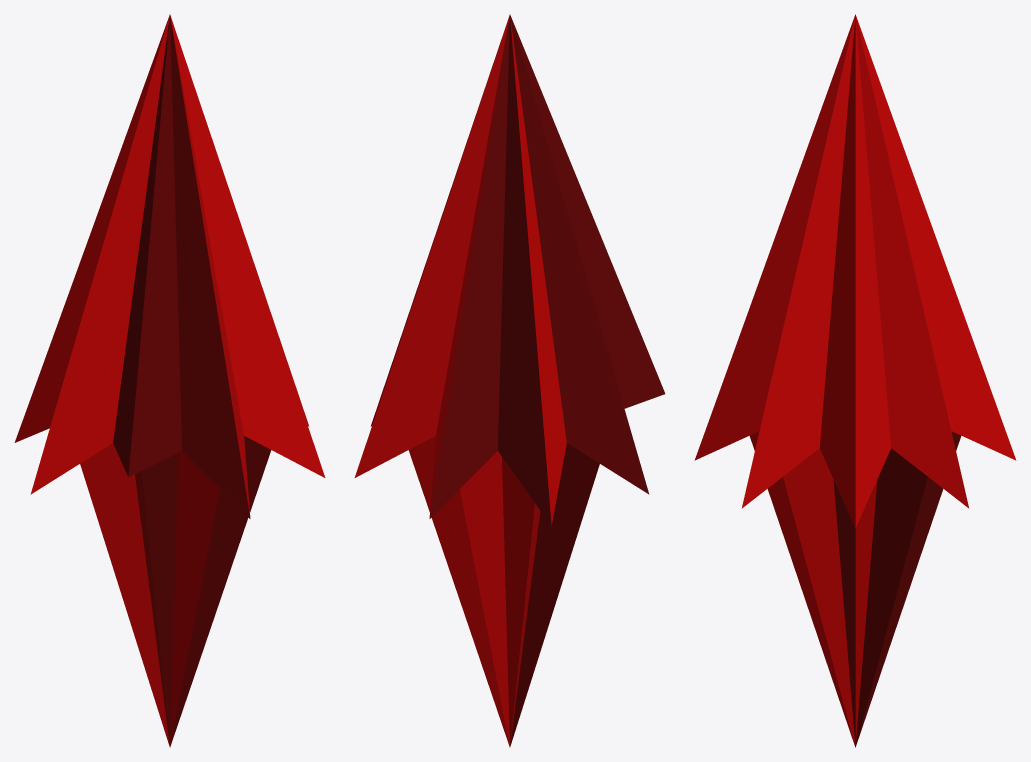
The model's file is Skytrooper_Bullet.fbx.
The picture shows the model from 3 angles, left to right: view 1: azimuth 30°, elevation 25°; view 2: azimuth 150°, elevation 25°; view 3: azimuth 270°, elevation 25°; orthographic projection.
Visible parts, largest first — view 1: Bullet_Skytrooper; view 2: Bullet_Skytrooper; view 3: Bullet_Skytrooper.
Boxes of the visible parts, x1,y1,x2,y2 form: Bullet_Skytrooper: (14,14,325,747); Bullet_Skytrooper: (354,14,665,747); Bullet_Skytrooper: (694,14,1016,747).
Size of the model in its own units: 0.2674 by 0.6726 by 0.2674.
